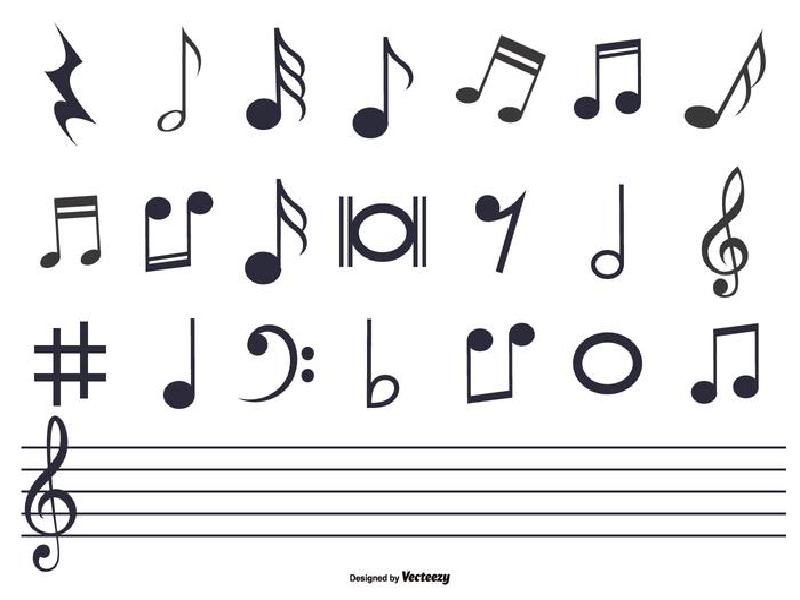B: (581, 183, 630, 281)
Bem: (363, 316, 404, 409)
C: (350, 35, 420, 142), (498, 320, 538, 408), (692, 325, 732, 408), (728, 318, 763, 403), (460, 325, 495, 407)
CF: (244, 318, 317, 404)
CS: (22, 417, 79, 572), (699, 168, 749, 299)
N: (163, 316, 198, 409)
R: (572, 319, 641, 399)
SC: (679, 25, 767, 134), (241, 175, 318, 288), (452, 17, 516, 106), (498, 52, 548, 131), (575, 35, 615, 127), (174, 184, 214, 274), (615, 28, 646, 122), (141, 192, 174, 274), (73, 191, 108, 268), (38, 196, 74, 270)
SN: (40, 20, 98, 144)
SOS: (31, 322, 112, 403)
